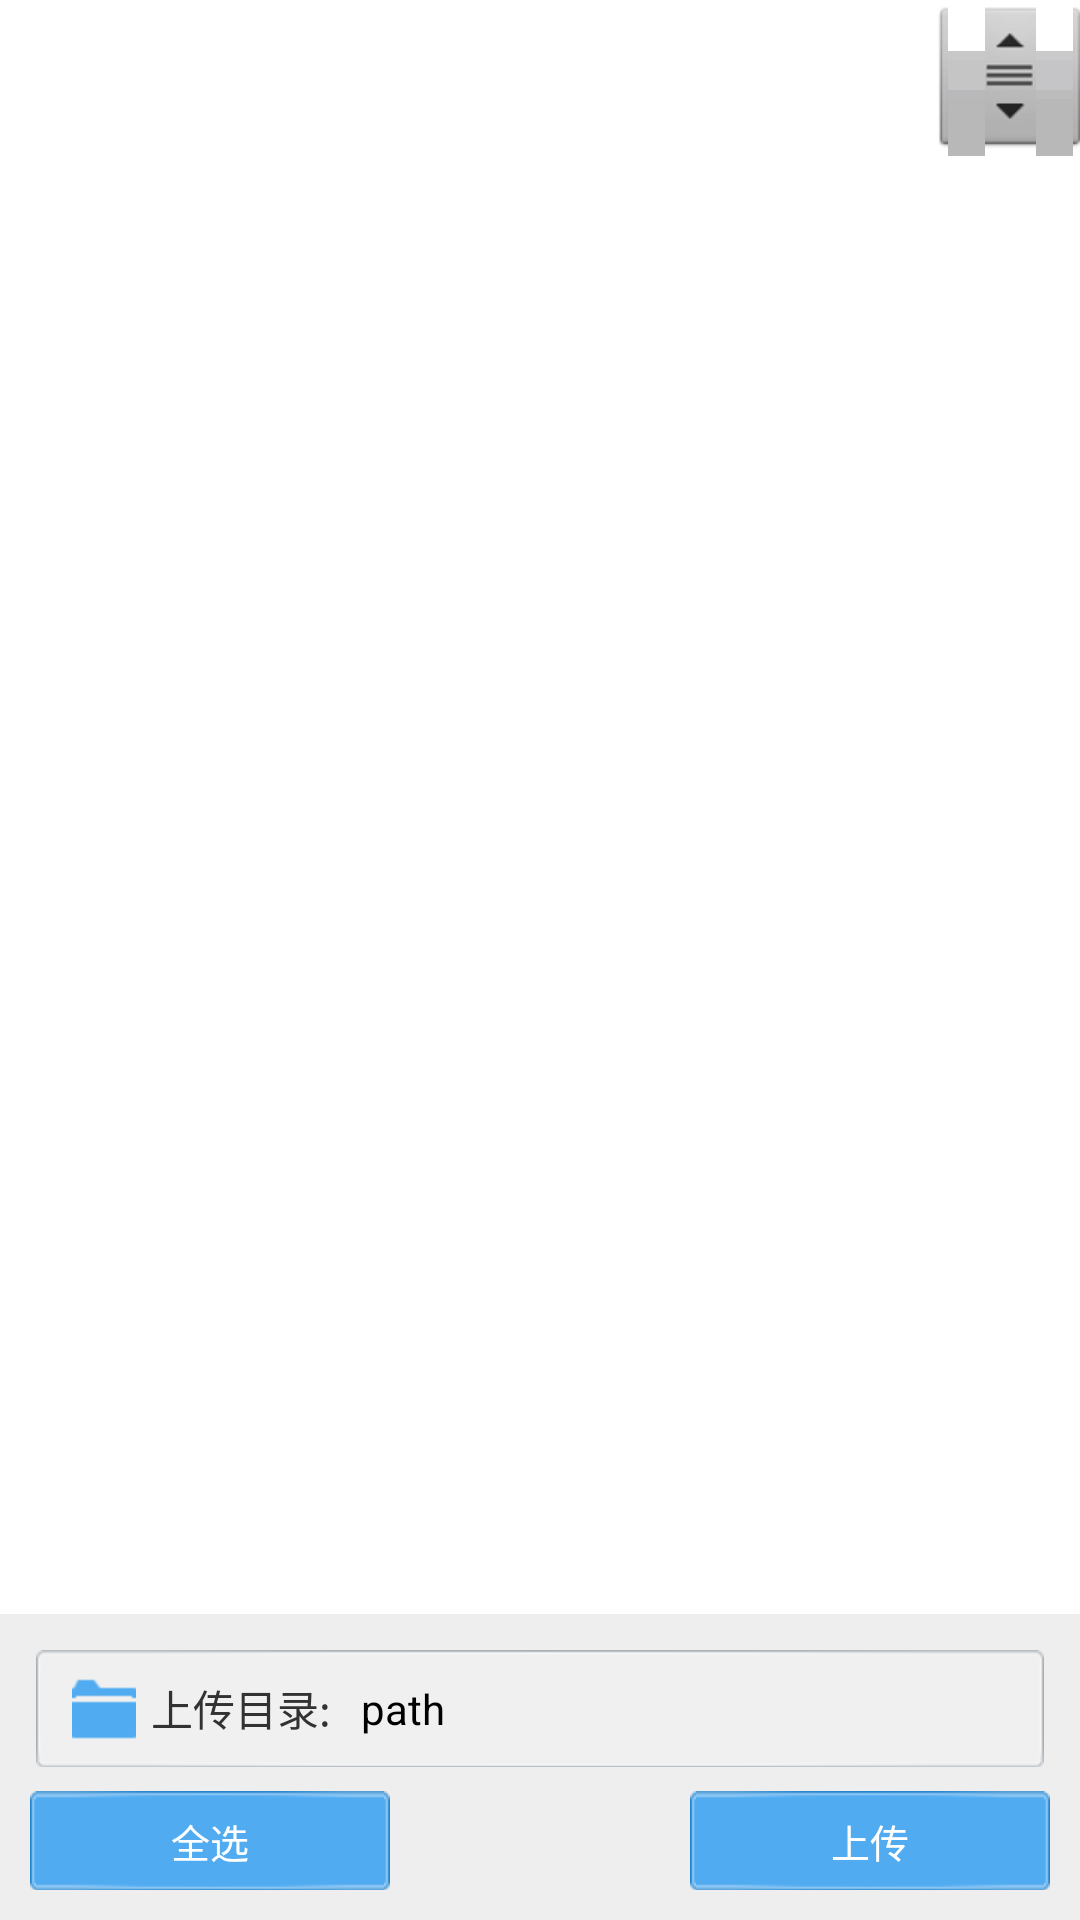

Screen size 1080*1920. Icon name, then its center in pixels as [x,y]:
option folder: [104,1709]
